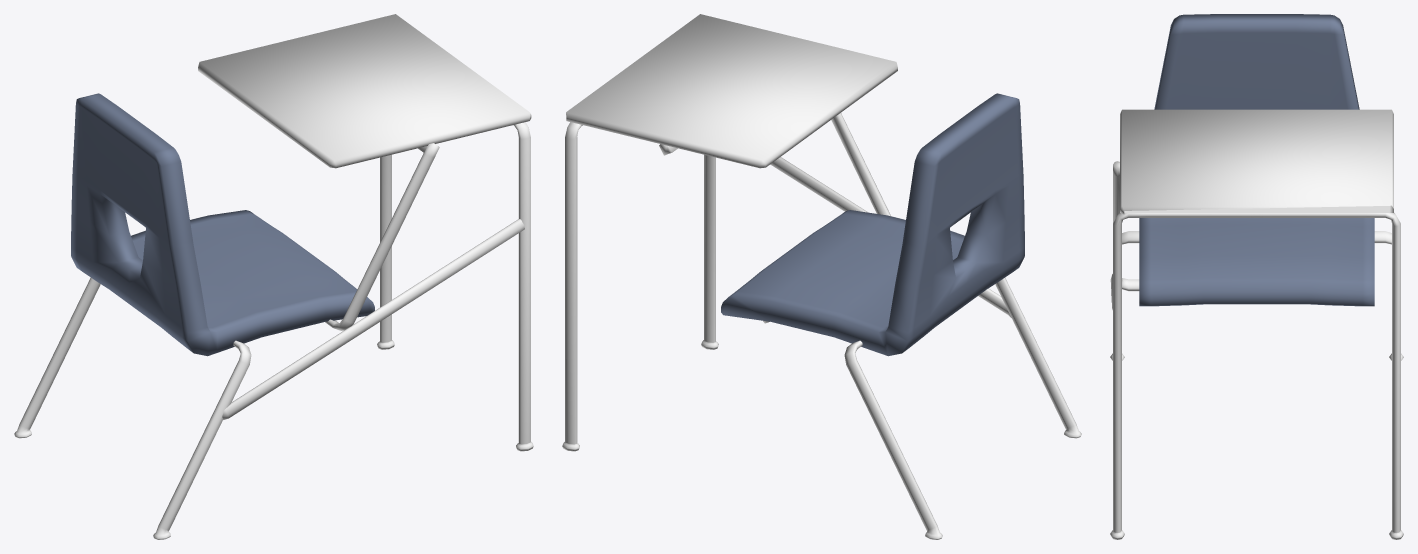
Rendered from SingleDesk.fbx.
3 views of the same model, side by side, from view 1: azimuth 30°, elevation 25°; view 2: azimuth 150°, elevation 25°; view 3: azimuth 270°, elevation 25° (orthographic).
Visible parts, largest first — view 1: Desk_001; view 2: Desk_001; view 3: Desk_001.
Part boxes in pixels (x1,y1,x2,y2): Desk_001: (14, 14, 533, 539); Desk_001: (562, 14, 1081, 539); Desk_001: (1110, 14, 1403, 539).
Bounding box in the file's own units: 98.39 × 87.67 × 65.4.
